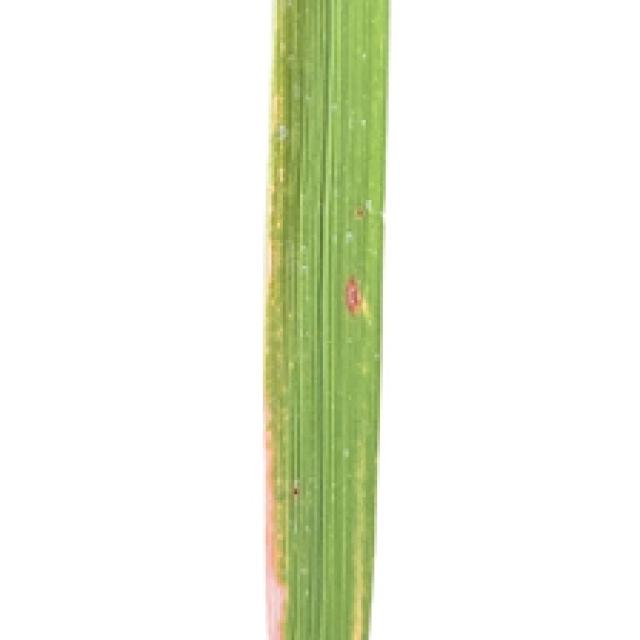Rice___Bacterial_Leaf_Blight: (263, 0, 389, 637)
